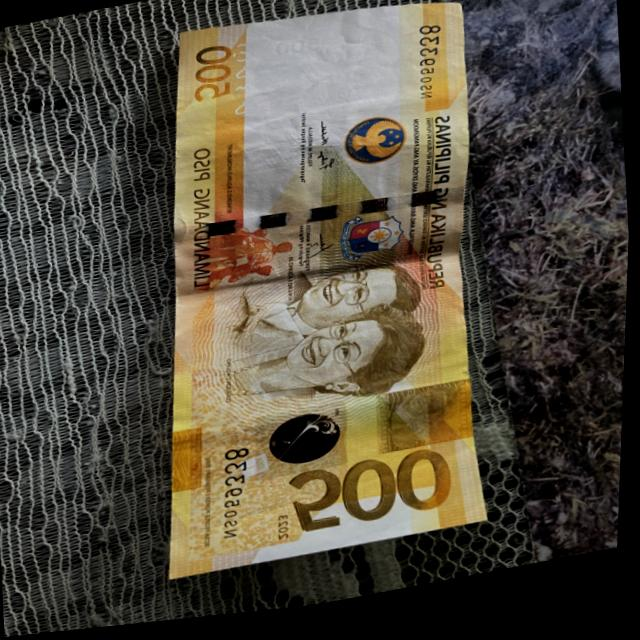concealed_value: (374, 387, 479, 464)
optically_variable_device: (258, 407, 357, 485)
security_thread: (175, 195, 461, 249)
see_through_mark: (225, 43, 262, 122)
serial_number: (405, 25, 457, 114), (215, 449, 261, 548)
value: (288, 452, 457, 545)
value_watermark: (269, 39, 323, 65)
watermark: (250, 17, 420, 130)
